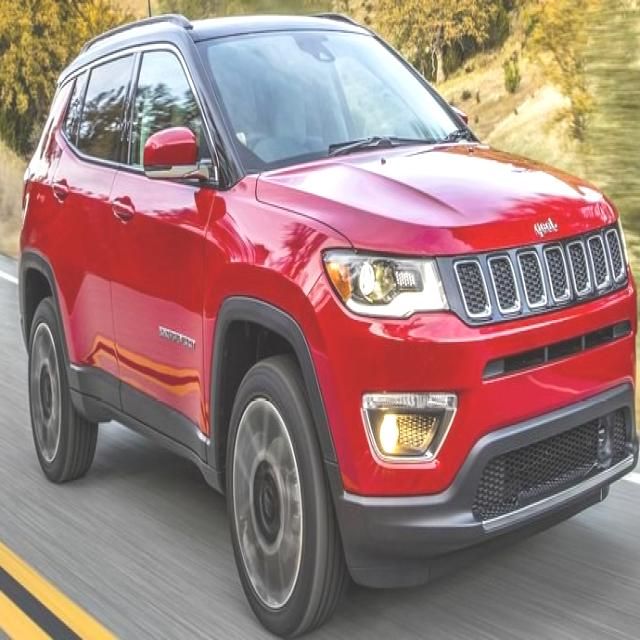red: (3, 16, 635, 561)
